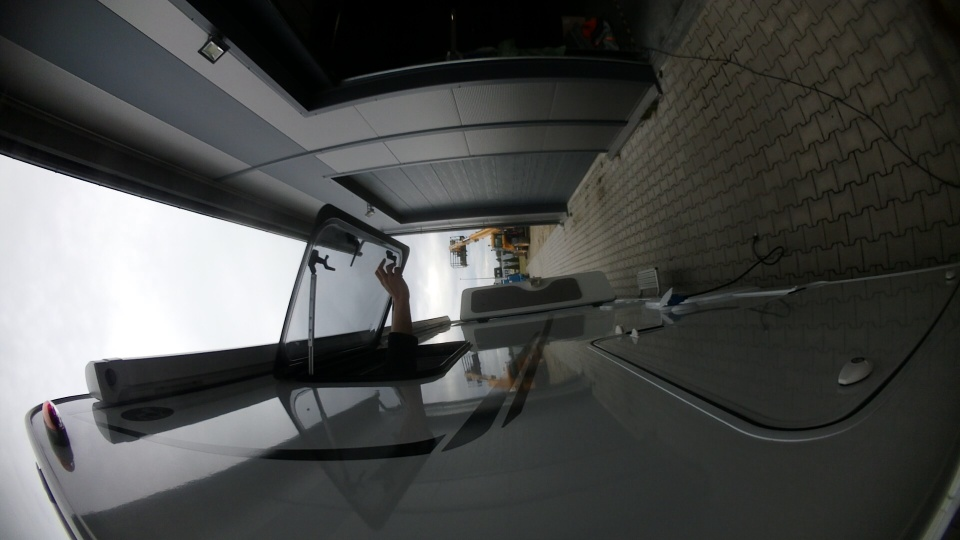door_back: (459, 267, 624, 325)
step_back: (629, 263, 664, 298)
window_back: (271, 193, 473, 390)
